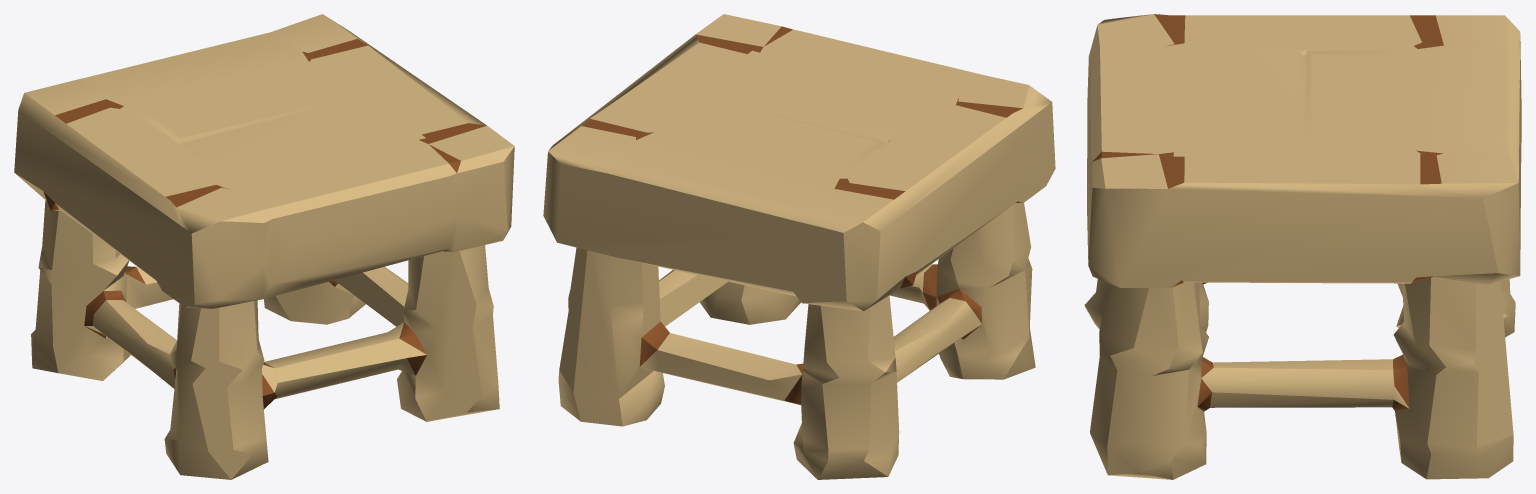
The model's file is prop_bamboo_table.glb.
3 views of the same model, side by side, from view 1: azimuth 30°, elevation 25°; view 2: azimuth 150°, elevation 25°; view 3: azimuth 270°, elevation 25° (orthographic). The views are drawn at different scales.
Visible parts, largest first — view 1: PropBambooTableBody; view 2: PropBambooTableBody; view 3: PropBambooTableBody.
Boxes of the visible parts, x1,y1,x2,y2 form: PropBambooTableBody: [14, 14, 514, 479]; PropBambooTableBody: [543, 14, 1055, 479]; PropBambooTableBody: [1084, 14, 1521, 479].
Size of the model in its own units: 0.9861 by 0.7467 by 1.
